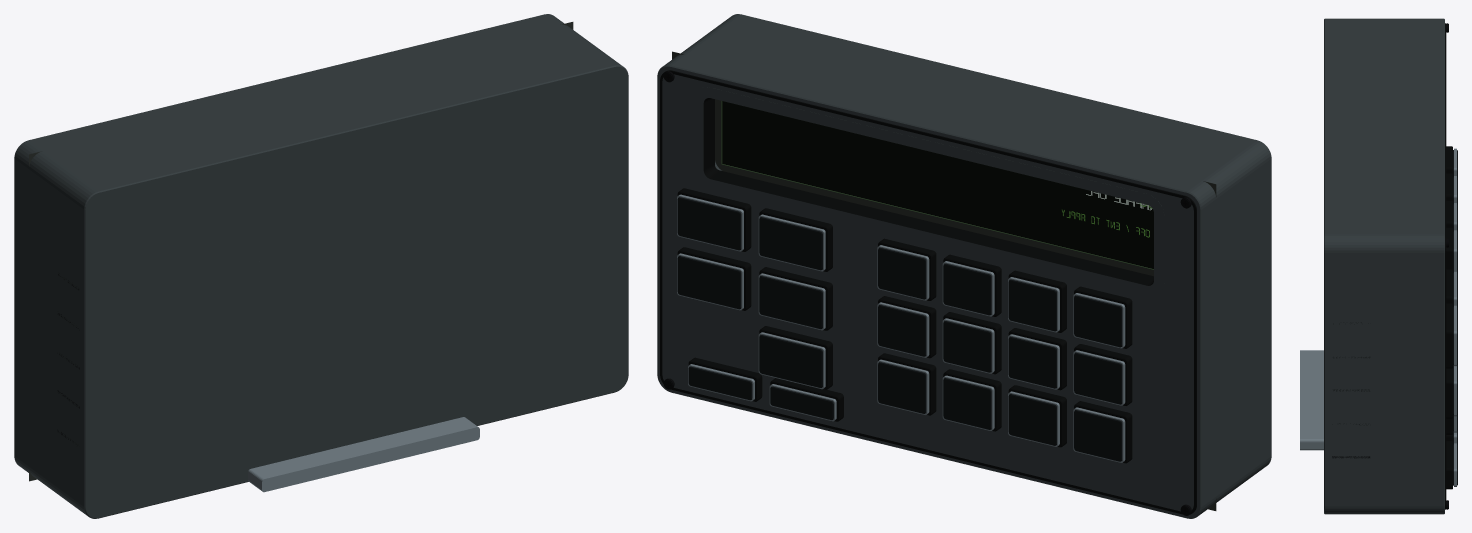
File: MFDStudio.obj
3 renders of one model, left to right at view 1: azimuth 30°, elevation 25°; view 2: azimuth 150°, elevation 25°; view 3: azimuth 270°, elevation 25°, orthographic. The views are drawn at different scales.
Visible parts, largest first — view 1: MFDStudioBody; view 2: MFDStudioBody, MFDStudioScreen, MFDStudioKey15, MFDStudioKey13, MFDStudioKey12, MFDStudioKey14, MFDStudioKey16, MFDStudioKey4, MFDStudioKey3, MFDStudioKey0, MFDStudioKey2, MFDStudioKey7 (+9 smaller); view 3: MFDStudioBody.
Part boxes in pixels (box(x1,y1,x2,y2)): MFDStudioBody: box(14, 14, 628, 518); MFDStudioBody: box(657, 14, 1271, 518); MFDStudioScreen: box(672, 51, 1216, 510); MFDStudioKey15: box(677, 256, 741, 309); MFDStudioKey13: box(677, 197, 741, 250); MFDStudioKey12: box(759, 217, 822, 270); MFDStudioKey14: box(759, 276, 822, 329); MFDStudioKey16: box(759, 335, 822, 387); MFDStudioKey4: box(1074, 352, 1122, 404); MFDStudioKey3: box(878, 247, 926, 299); MFDStudioKey0: box(1074, 295, 1122, 347); MFDStudioKey2: box(943, 263, 991, 315); MFDStudioKey7: box(878, 305, 926, 356); MFDStudioBody: box(1300, 18, 1456, 514).
Bounding box in the file's own units: 0.27 × 0.155 × 0.0795.
Materials: 10 (1 with a texture image).
